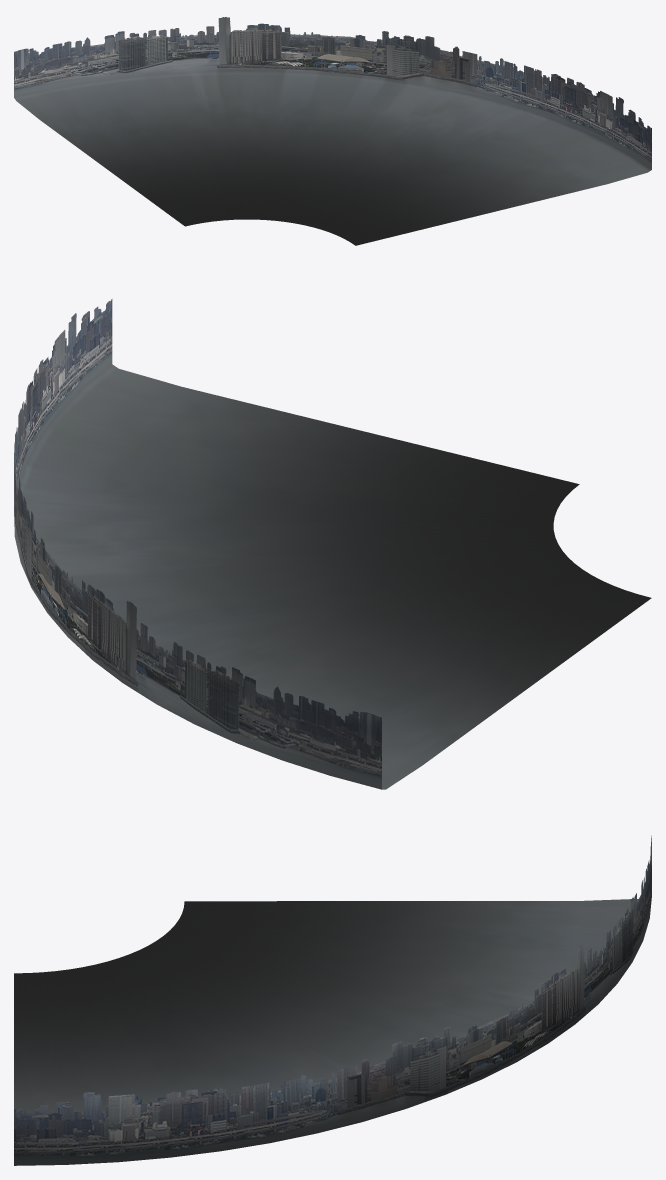
Rendered from jctlowFarBuildings.fbx.
The picture shows the model from 3 angles, top to bottom: view 1: azimuth 30°, elevation 25°; view 2: azimuth 150°, elevation 25°; view 3: azimuth 270°, elevation 25°; orthographic projection. The views are drawn at different scales.
Visible parts, largest first — view 1: jctlowFarBuildings; view 2: jctlowFarBuildings; view 3: jctlowFarBuildings.
Part boxes in pixels (x1=…): jctlowFarBuildings: x1=14, y1=17, x2=651, y2=245; jctlowFarBuildings: x1=14, y1=299, x2=651, y2=789; jctlowFarBuildings: x1=14, y1=835, x2=651, y2=1165.
Bounding box in the file's own units: 31831 × 4576 × 31831.
1 material, 1 textured.
